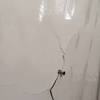crack: (47, 68, 63, 99), (55, 34, 63, 58)
